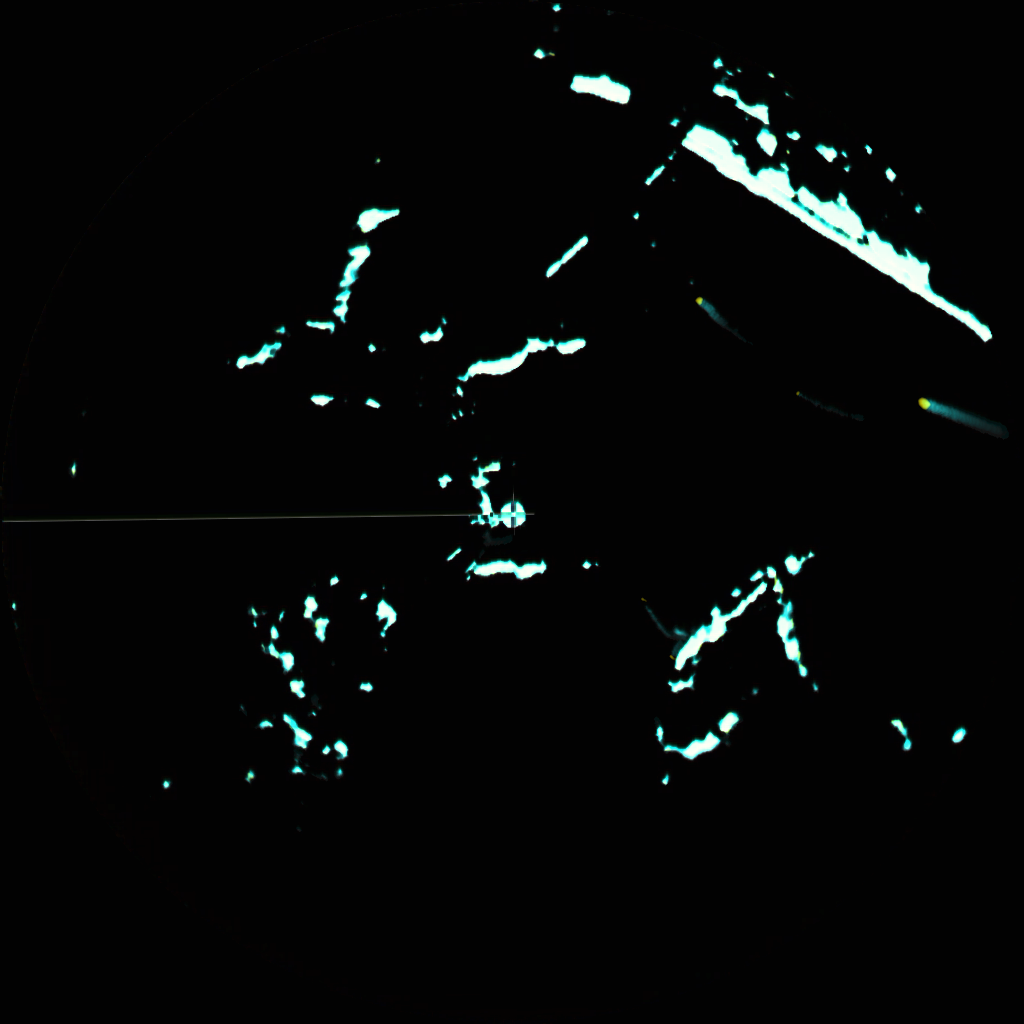B: (920, 398, 988, 427), (640, 592, 670, 636), (694, 295, 729, 331)
